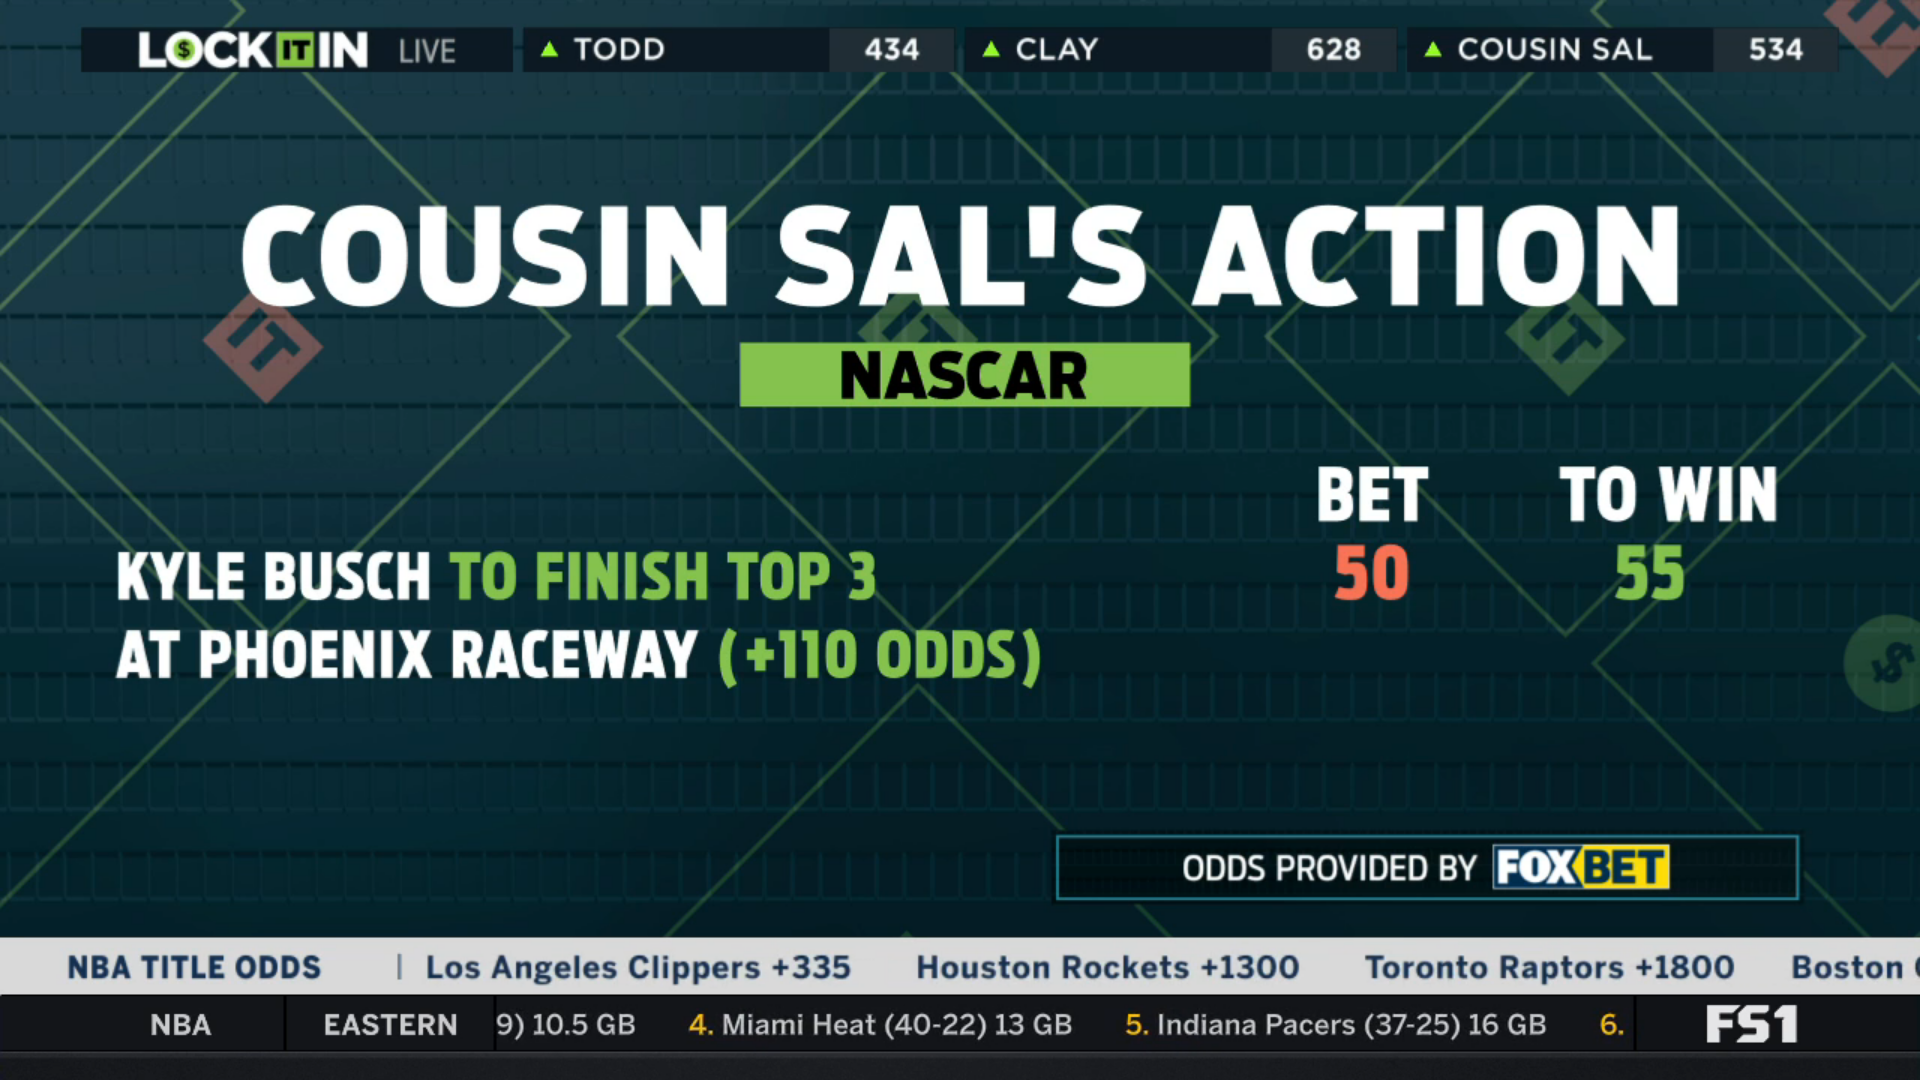Bet: (105, 533, 1062, 700)
Bet Amount: (1303, 447, 1445, 620)
Subtitle: (732, 334, 1203, 419)
Title: (227, 189, 1704, 324)
To Win: (1544, 448, 1788, 609)
Top Bar: (71, 13, 1847, 83)
